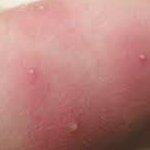Ants: (60, 109, 83, 137), (23, 63, 41, 81), (33, 1, 48, 13), (138, 52, 149, 65)
